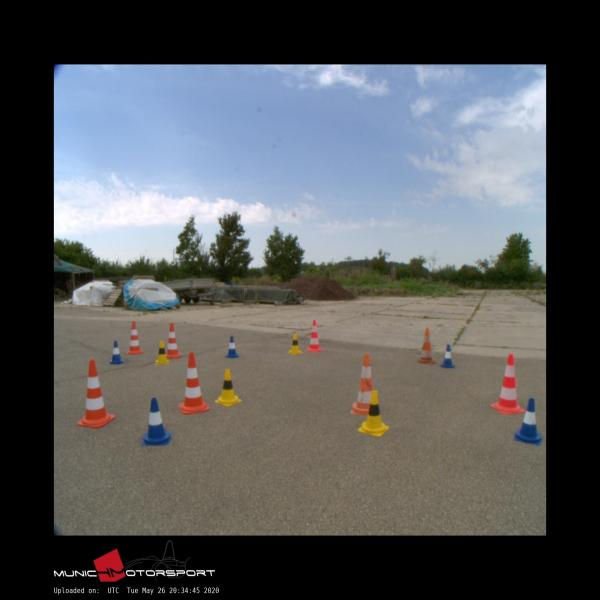blue_cone: (140, 398, 172, 446), (514, 398, 541, 446), (108, 340, 124, 364), (439, 344, 455, 367), (226, 335, 238, 356)
large_orange_cone: (77, 359, 114, 427), (491, 353, 524, 414), (179, 352, 208, 413), (350, 354, 379, 414), (418, 327, 434, 364), (164, 322, 180, 358), (126, 322, 144, 353), (307, 319, 321, 351)
yellow_cone: (357, 390, 388, 435), (214, 370, 240, 404), (154, 340, 168, 364), (288, 334, 301, 354)
